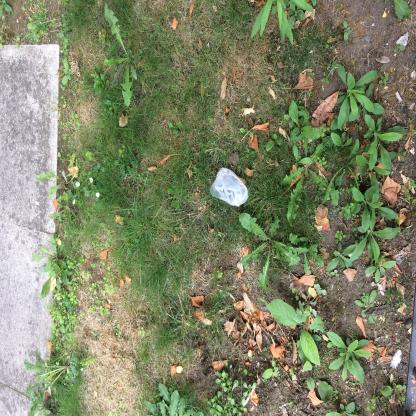trash: (208, 165, 250, 209)
